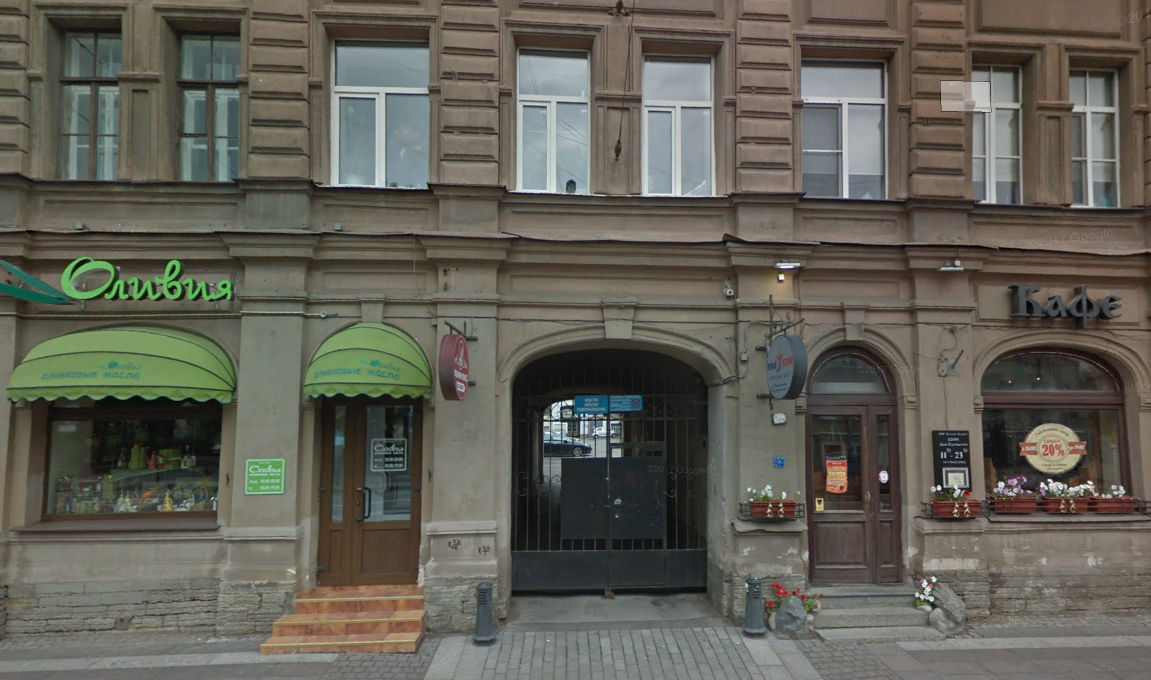arch: (510, 339, 710, 616)
cantilever: (749, 295, 806, 422), (422, 309, 487, 410)
door: (319, 396, 421, 589), (810, 392, 898, 595)
signboard: (1, 244, 237, 317), (1000, 278, 1131, 333)
window: (990, 346, 1128, 503), (42, 402, 224, 518), (326, 41, 431, 181), (802, 53, 887, 195), (513, 49, 596, 193), (640, 56, 716, 195), (57, 33, 120, 182), (176, 30, 237, 183), (972, 63, 1024, 201), (1072, 66, 1122, 208)
